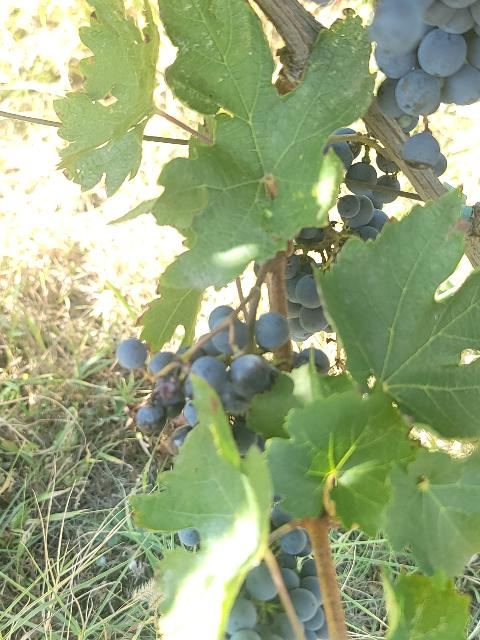grapes: (189, 318, 279, 455), (325, 141, 400, 241), (139, 366, 199, 448), (285, 252, 332, 341), (254, 312, 290, 351), (146, 346, 189, 375), (295, 225, 336, 255), (292, 349, 330, 374), (118, 339, 148, 369), (209, 305, 234, 330)
